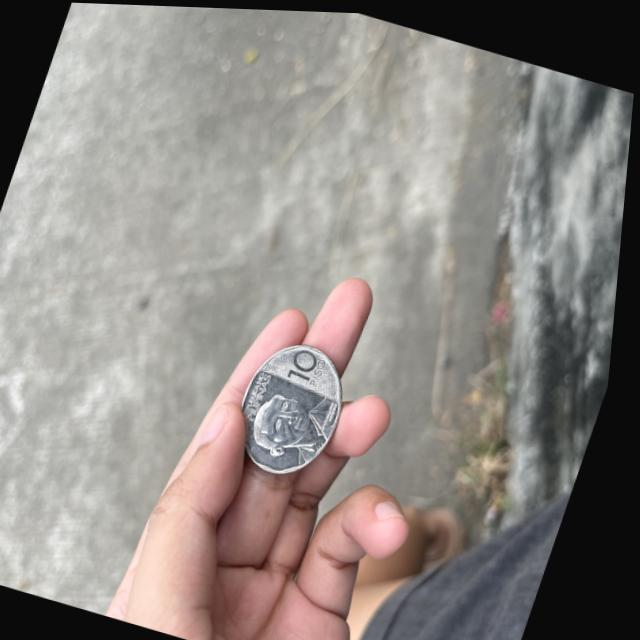10_New_Front: (285, 342, 338, 392)
